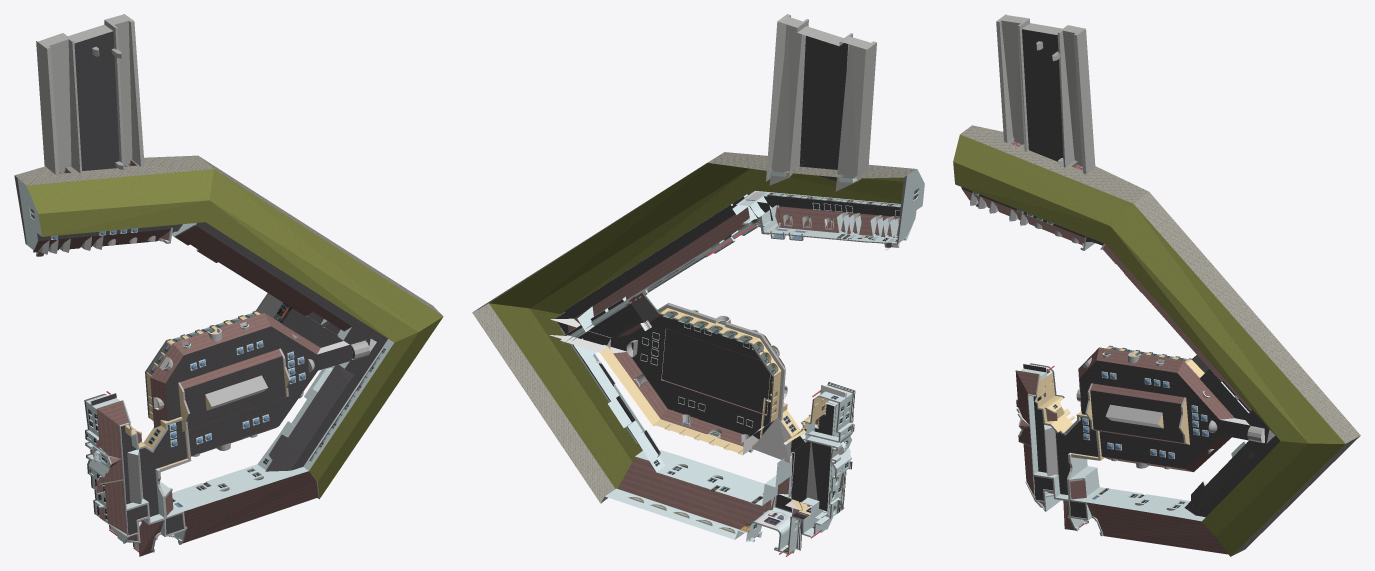
The model's file is Aia_20_1.obj.
3 renders of one model, left to right at view 1: azimuth 30°, elevation 25°; view 2: azimuth 150°, elevation 25°; view 3: azimuth 330°, elevation 25°, orthographic. The views are drawn at different scales.
Visible parts, largest first — view 1: Aia_20; view 2: Aia_20; view 3: Aia_20.
Part boxes in pixels (x1,y1,x2,y2): Aia_20: (14, 14, 443, 556); Aia_20: (472, 14, 924, 556); Aia_20: (953, 14, 1360, 556).
Bounding box in the file's own units: 117 × 141 × 16.55.
